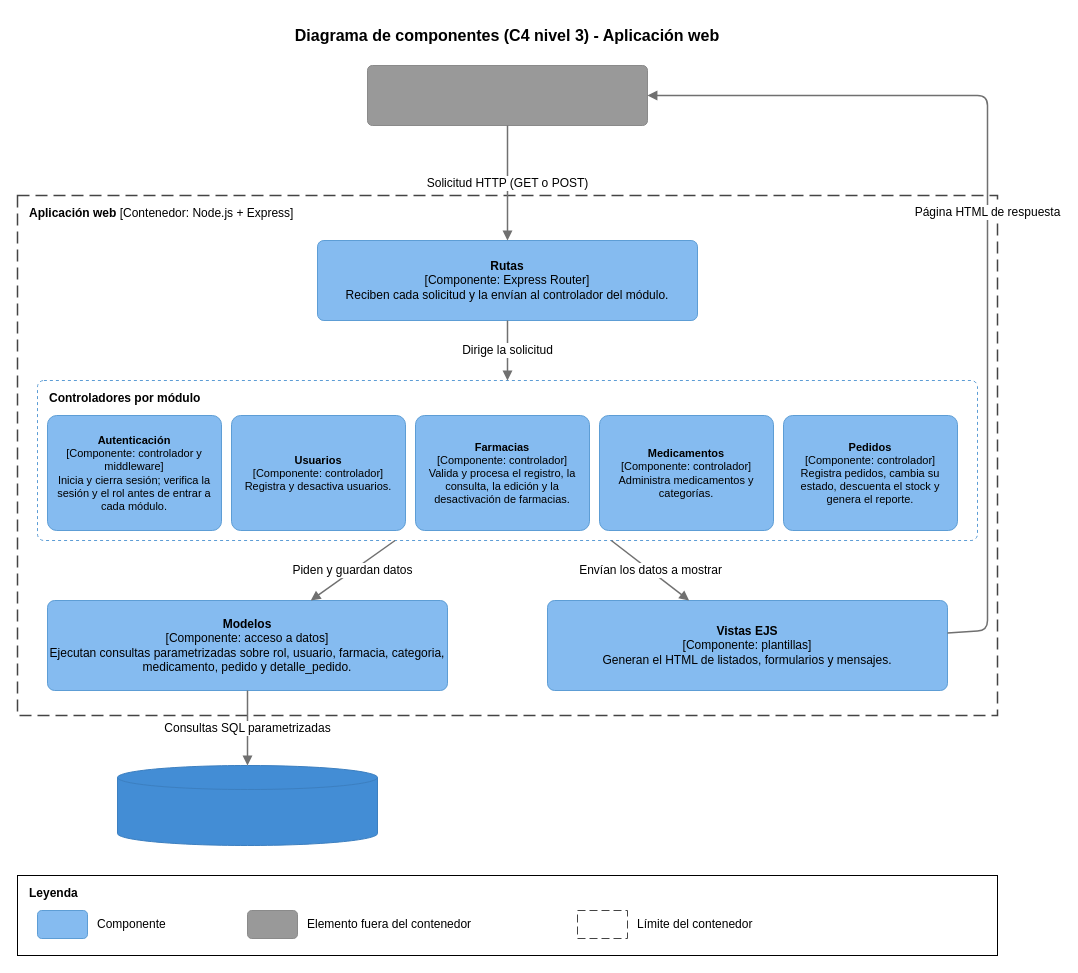
This 1078x973 diagram has some shape labels left out. The centre of each missing label's shape, as x and y in pixels:
"Base de datos [Contenedor: MySQL 8]" belongs at pixel 247 805.
"Navegador web [Chrome, Edge o Firefox]" belongs at pixel 507 95.
